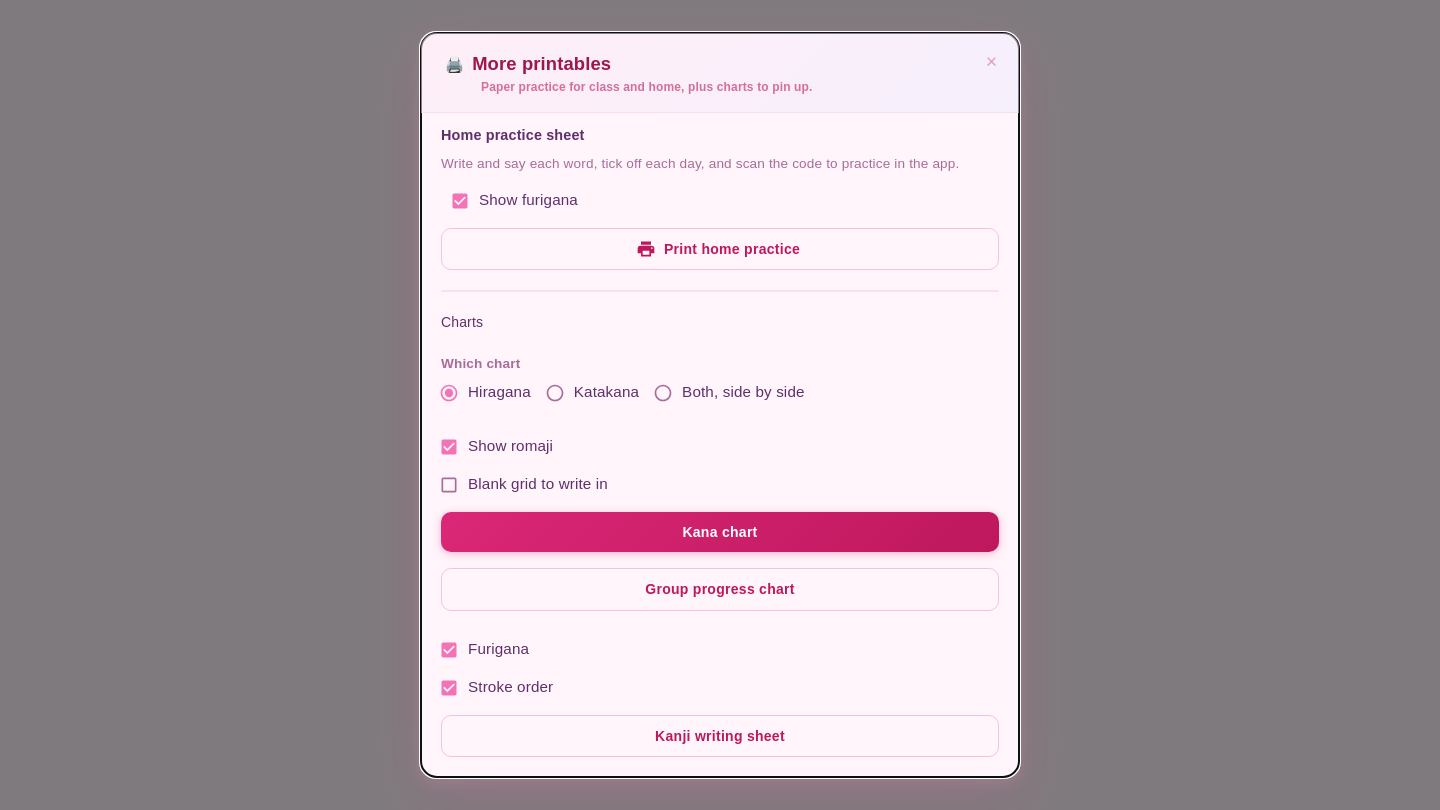
ReferenceSheetsDialog › shows the permission error, not a generic one, when the group is not the requester’s
(page scrolled)
Click the button "Group progress chart" at (720, 589), box [441,568,999,611]
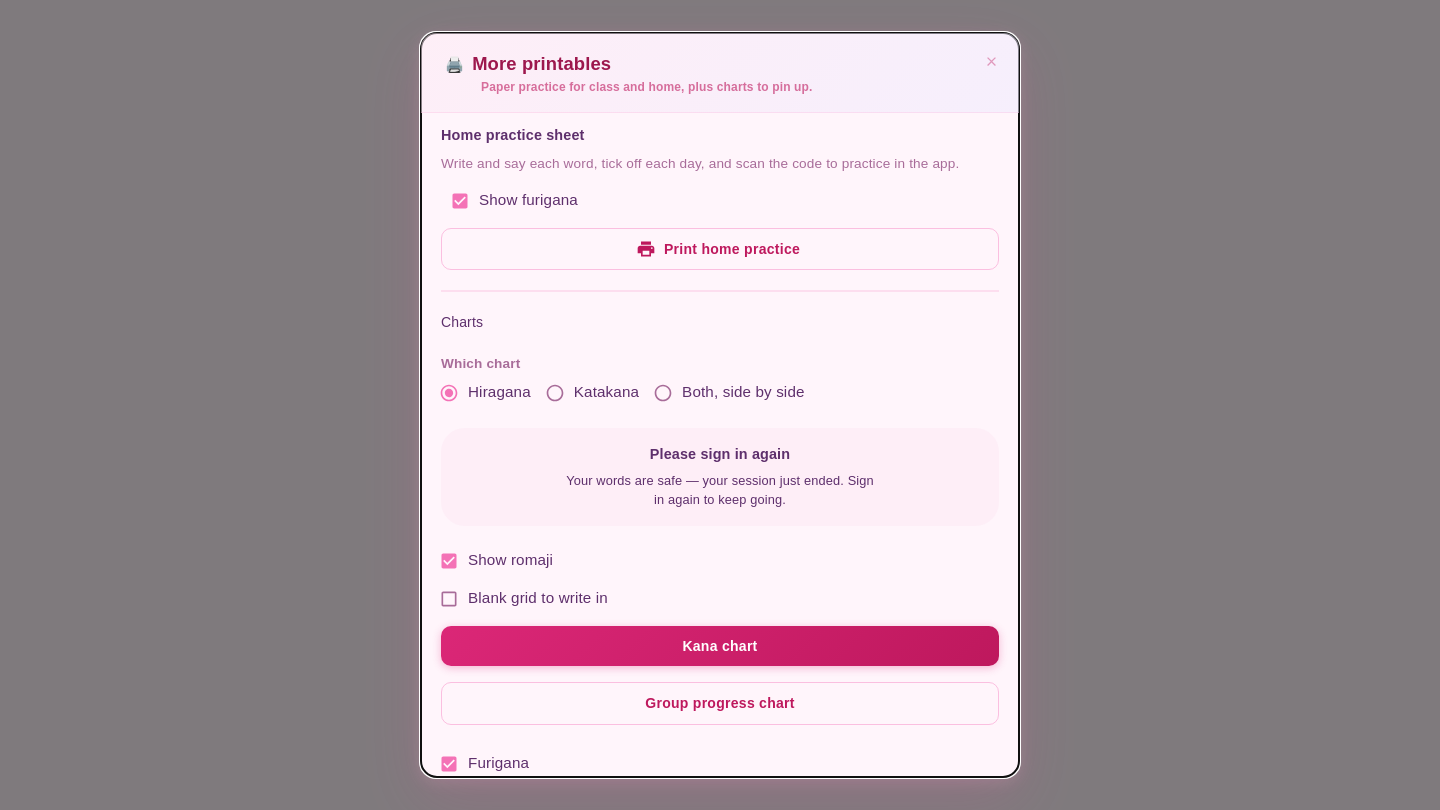
Result: the text "Please sign in again" is shown at [650,444,790,465]
